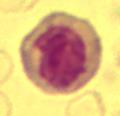monocyte: (15, 10, 101, 92)
